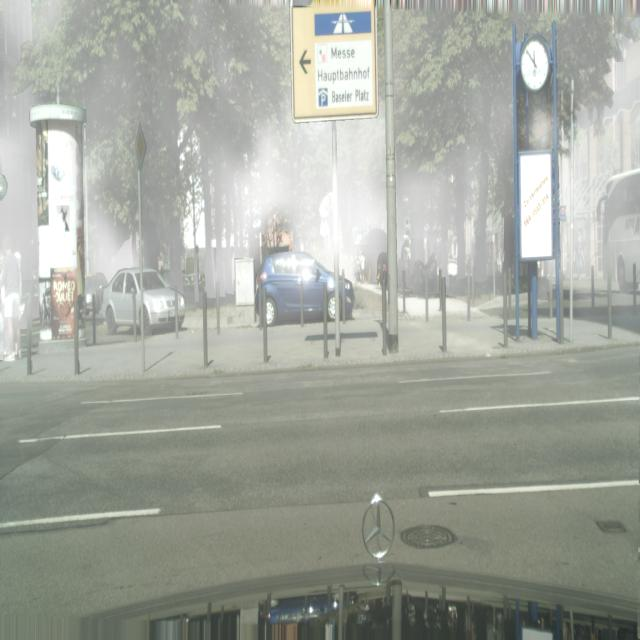motorcycle: (599, 168, 640, 294)
person: (0, 234, 21, 361)
truck: (254, 251, 355, 326), (103, 267, 186, 335), (82, 272, 108, 318)
